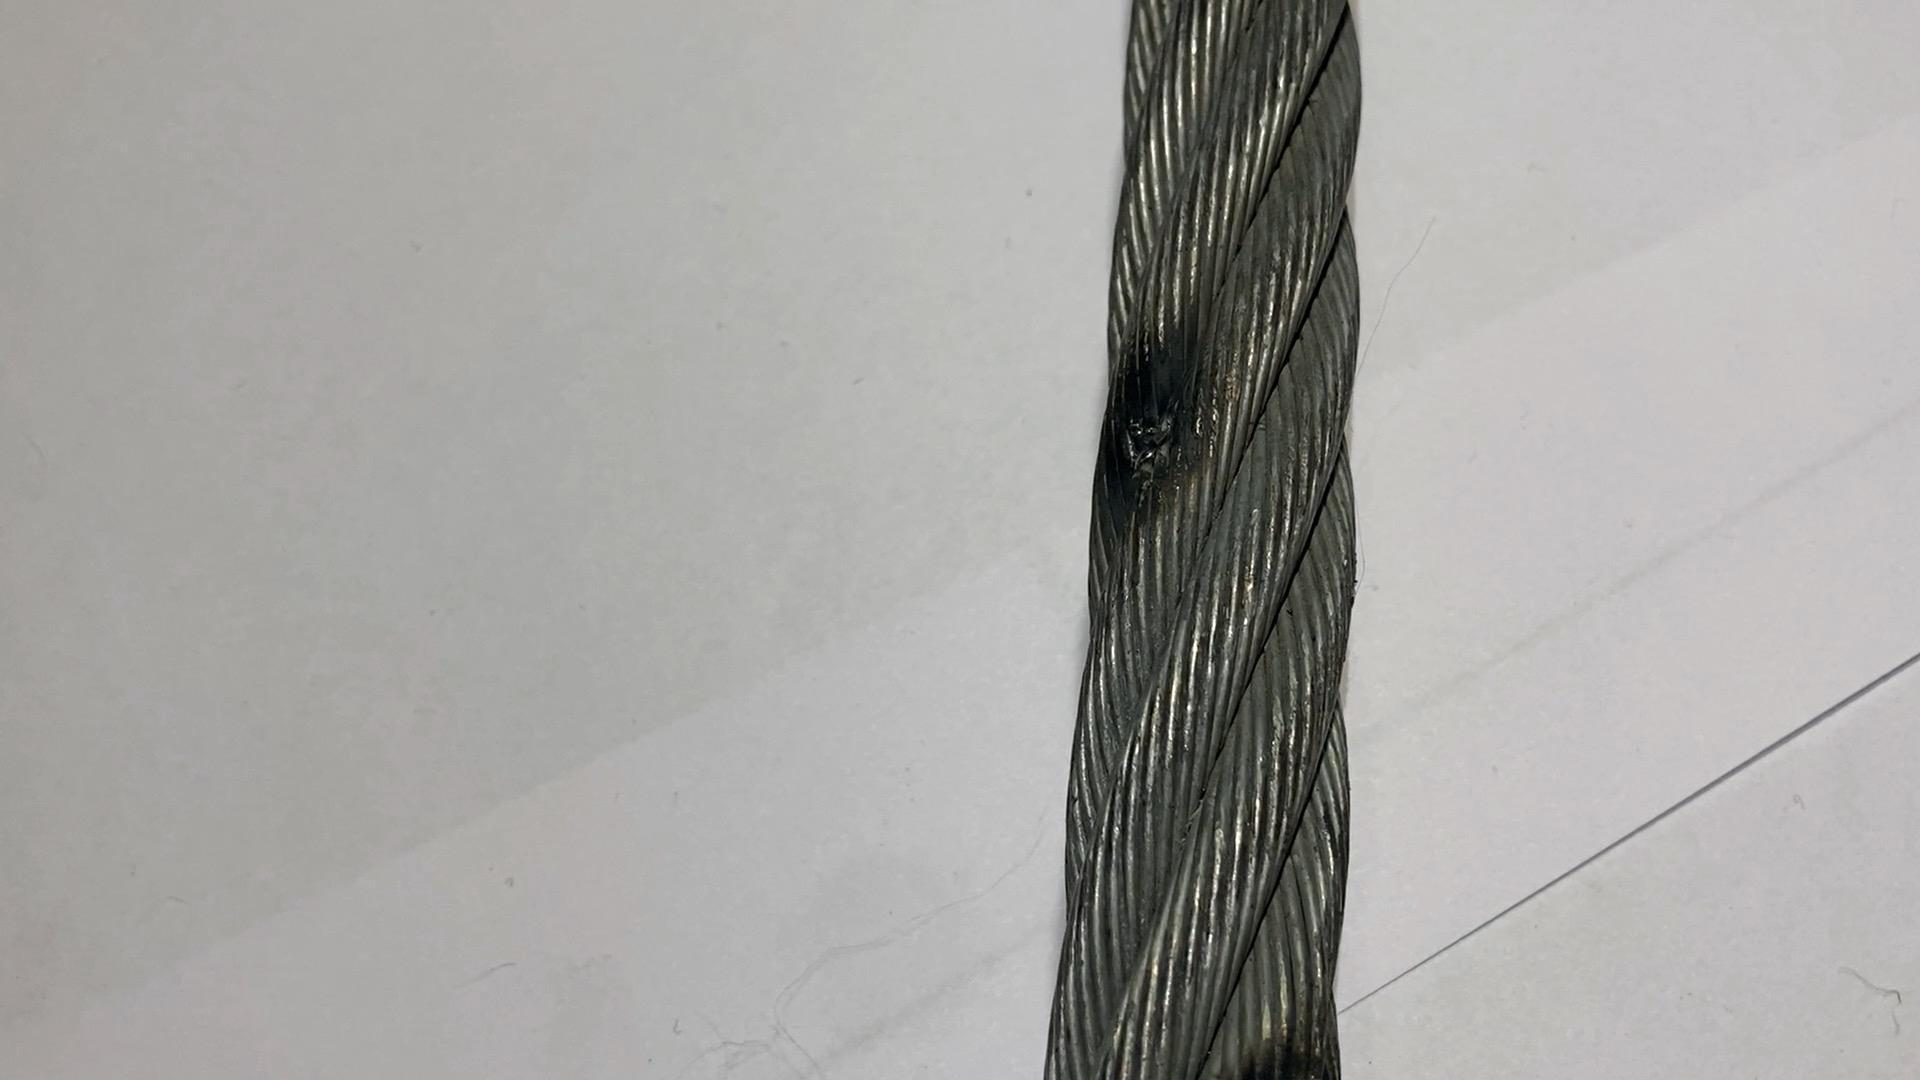thunderbolt: (1098, 320, 1234, 506)
